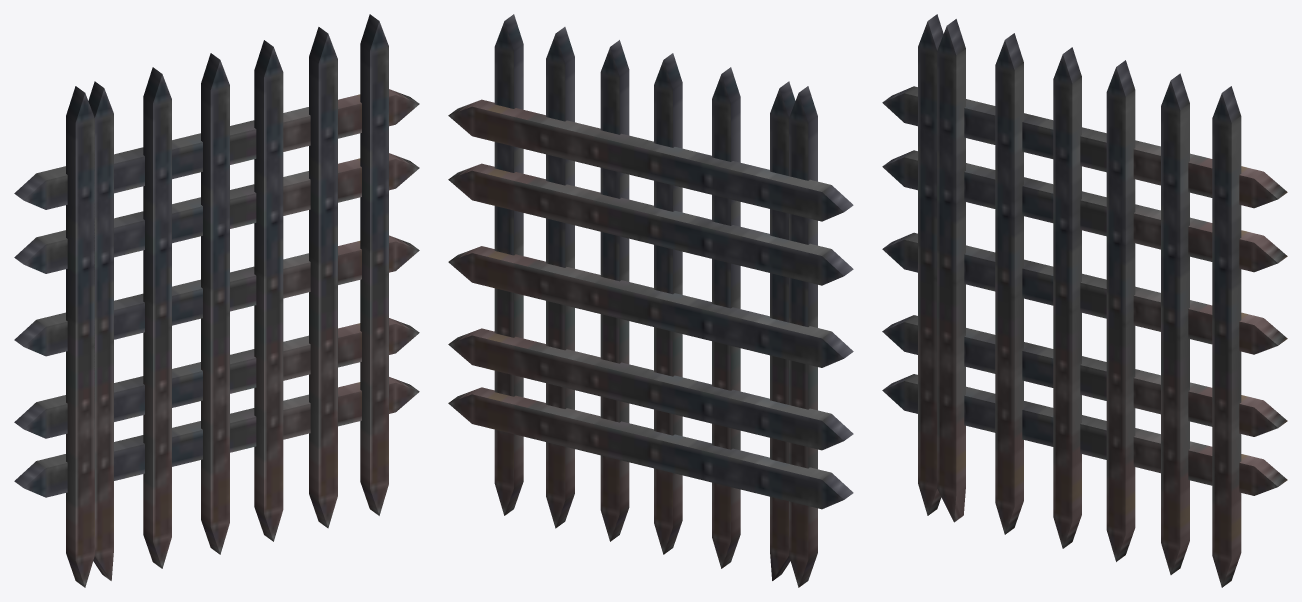
Rendered from prisonGate.fbx.
The picture shows the model from 3 angles, left to right: view 1: azimuth 30°, elevation 25°; view 2: azimuth 150°, elevation 25°; view 3: azimuth 330°, elevation 25°; orthographic projection.
Visible parts, largest first — view 1: castleGate (5); view 2: castleGate (5); view 3: castleGate (5).
Part boxes in pixels (bbox=[...]): castleGate (5): bbox=[14, 14, 419, 587]; castleGate (5): bbox=[448, 14, 853, 587]; castleGate (5): bbox=[882, 14, 1287, 587].
Bounding box in the file's own units: 3.89 × 4.65 × 0.2996.
